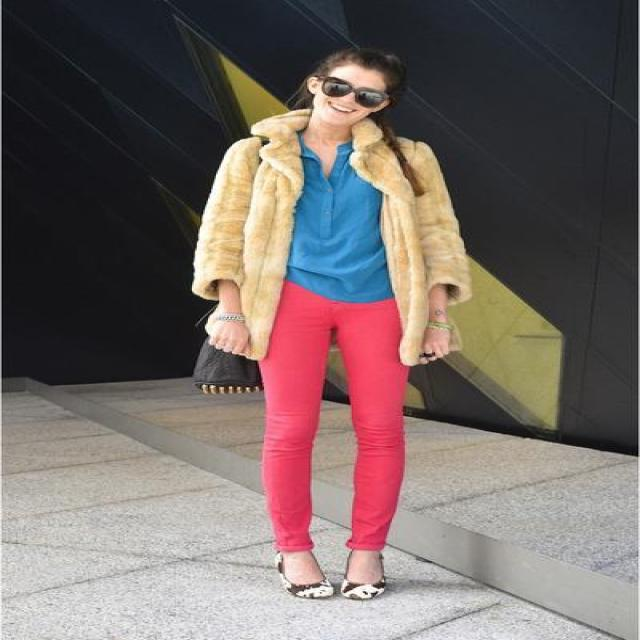bag: (181, 335, 262, 392)
jacket: (192, 110, 469, 365)
pants: (259, 278, 408, 556)
shirt: (283, 166, 394, 302)
shoe: (288, 580, 363, 601)
sunglass: (327, 66, 388, 106)
